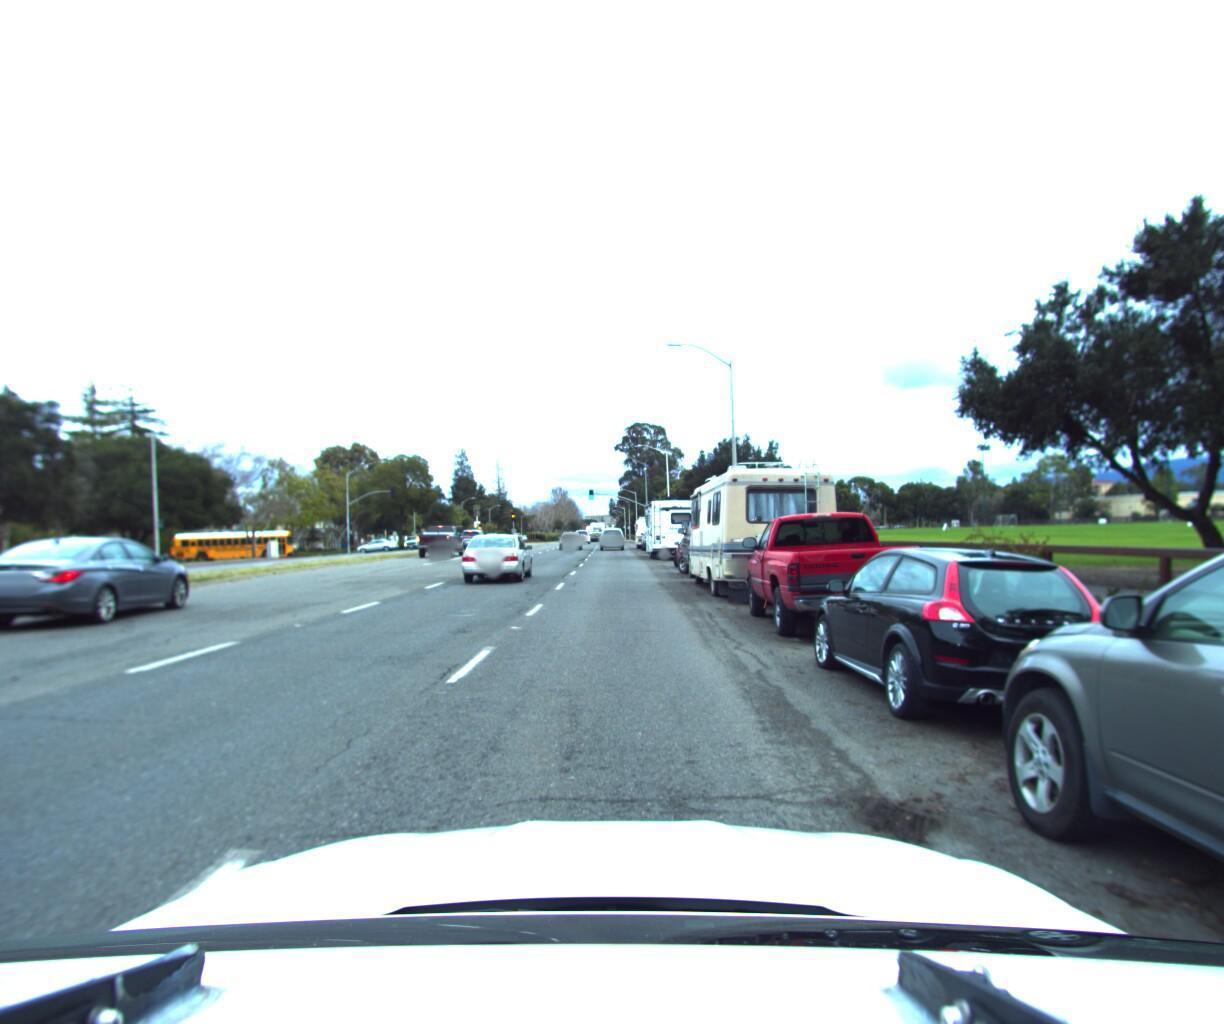car: (961, 197, 1224, 1024), (807, 526, 1172, 736), (742, 485, 952, 642), (0, 533, 206, 635), (679, 506, 767, 573), (460, 523, 539, 579), (417, 522, 466, 554), (457, 521, 495, 547), (600, 520, 629, 545), (558, 526, 585, 546)
other_vehicle: (681, 442, 868, 604), (641, 483, 711, 554), (627, 507, 661, 544)
